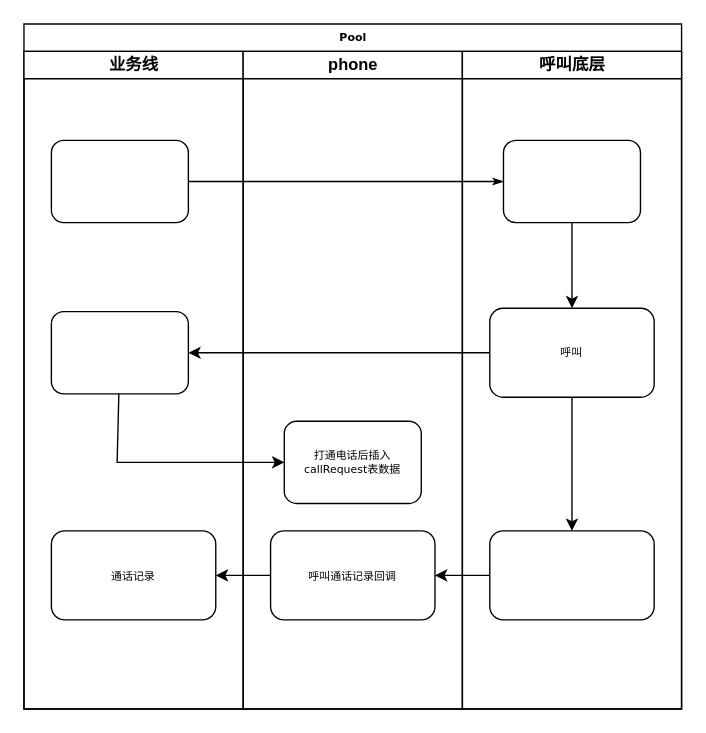
Image size: 706x733. Some labels were removed from this diagram. Each missing label, with the centre of its shape:
发起呼叫: pixel 571 181
呼叫事件: pixel 119 352
呼叫完成: pixel 571 575
嵌入慧呼软电话条: pixel 119 181
